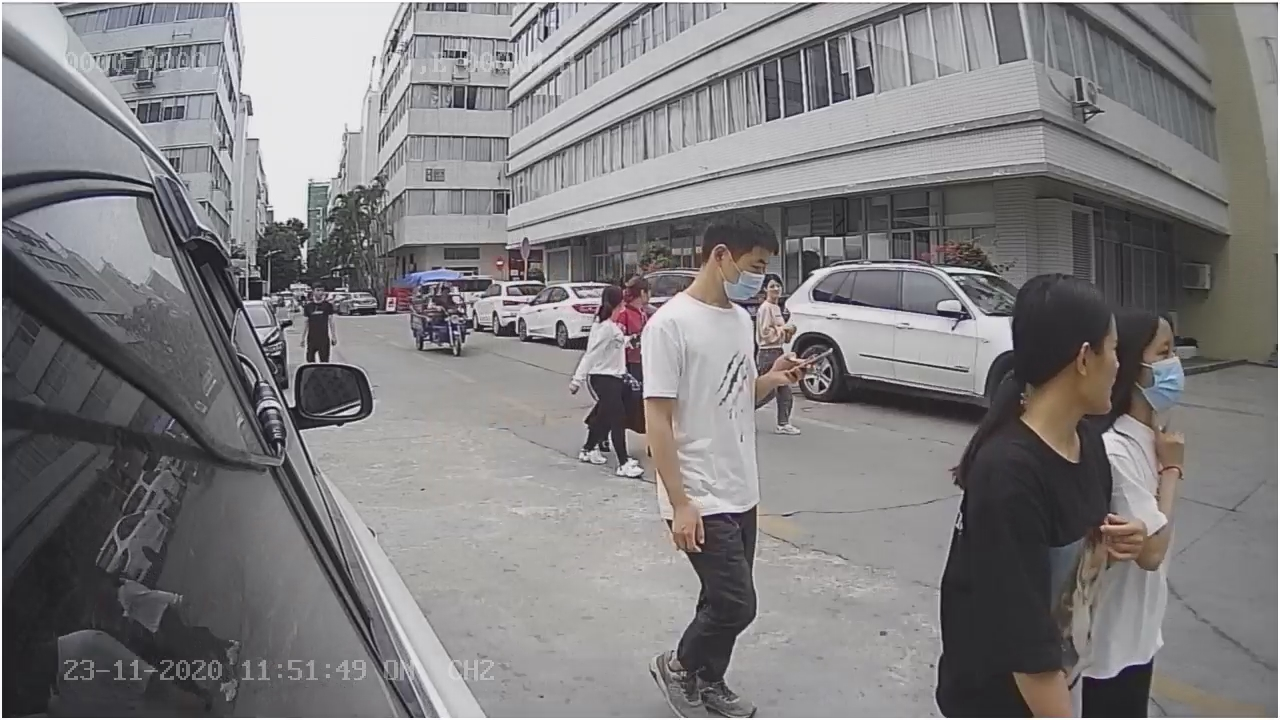person: (616, 204, 796, 720)
